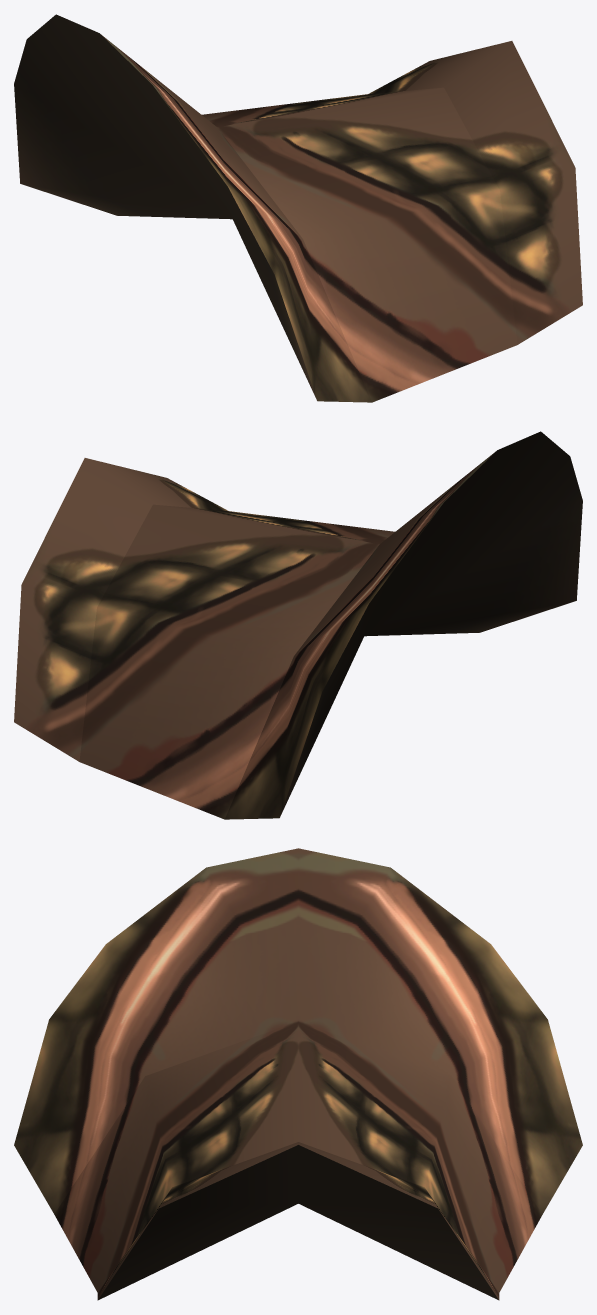
The model's file is scale_shoulder_drop.fbx.
The picture shows the model from 3 angles, top to bottom: view 1: azimuth 30°, elevation 25°; view 2: azimuth 150°, elevation 25°; view 3: azimuth 270°, elevation 25°; orthographic projection. The views are drawn at different scales.
Visible parts, largest first — view 1: Scale_Set/shoulders; view 2: Scale_Set/shoulders; view 3: Scale_Set/shoulders.
Boxes of the visible parts, bbox=[...] form: Scale_Set/shoulders: bbox=[14, 14, 582, 402]; Scale_Set/shoulders: bbox=[14, 431, 582, 819]; Scale_Set/shoulders: bbox=[14, 848, 582, 1300].
Bounding box in the file's own units: 0.5617 × 0.4052 × 0.7006.
